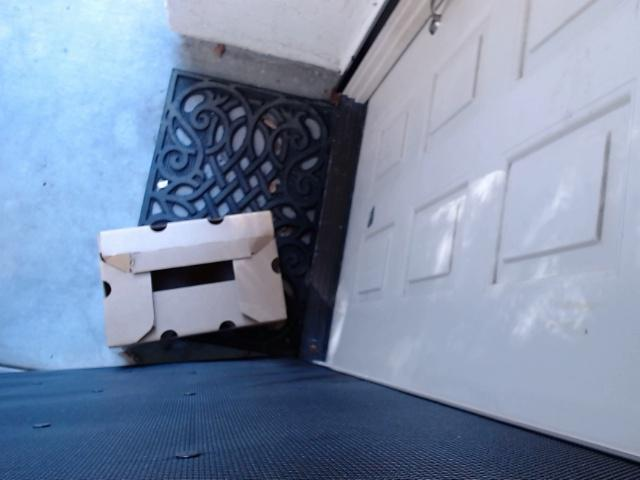box: (97, 210, 287, 365)
